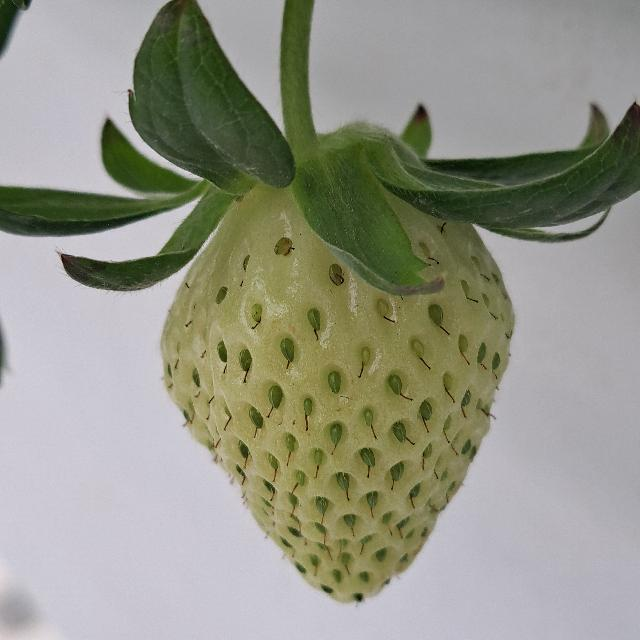Health_25: (160, 180, 514, 602)
